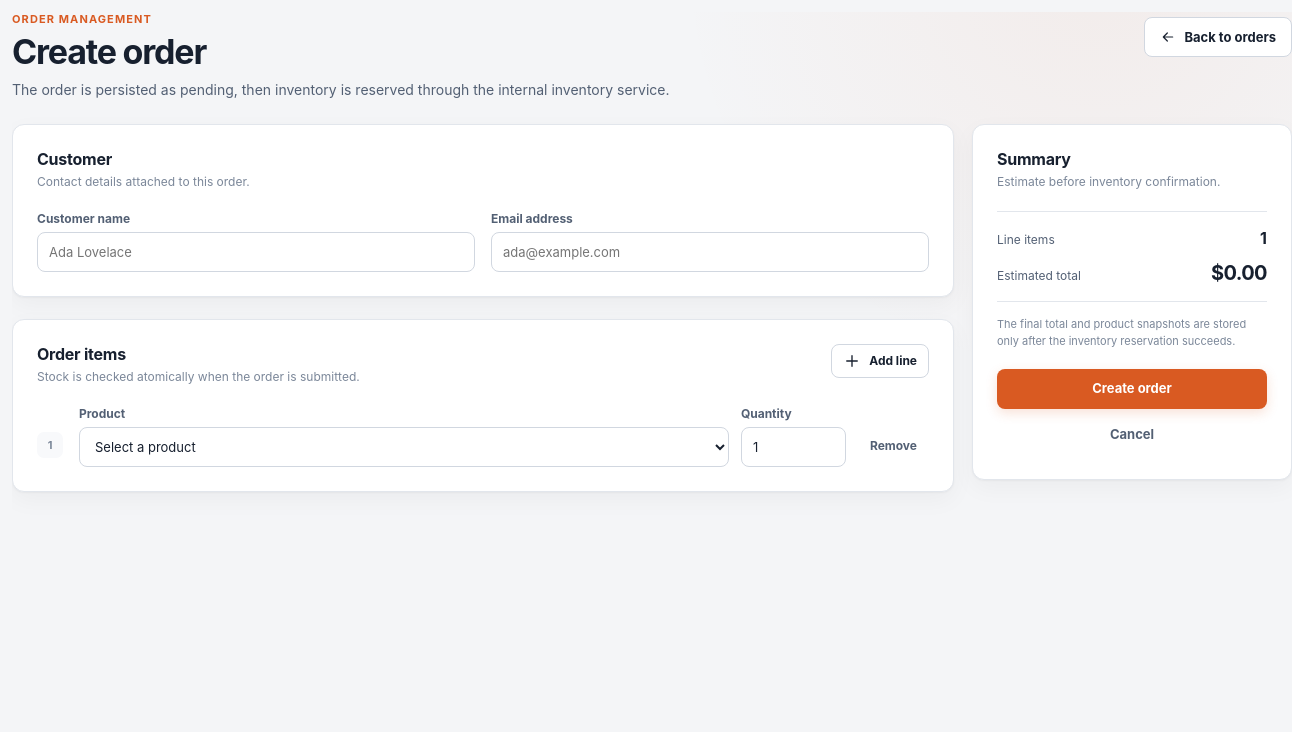
Test: NewOrderPage › validates required customer fields before submitting
Click the button "Create order".
click(1132, 389)  # box x1=997 y1=369 x2=1267 y2=409
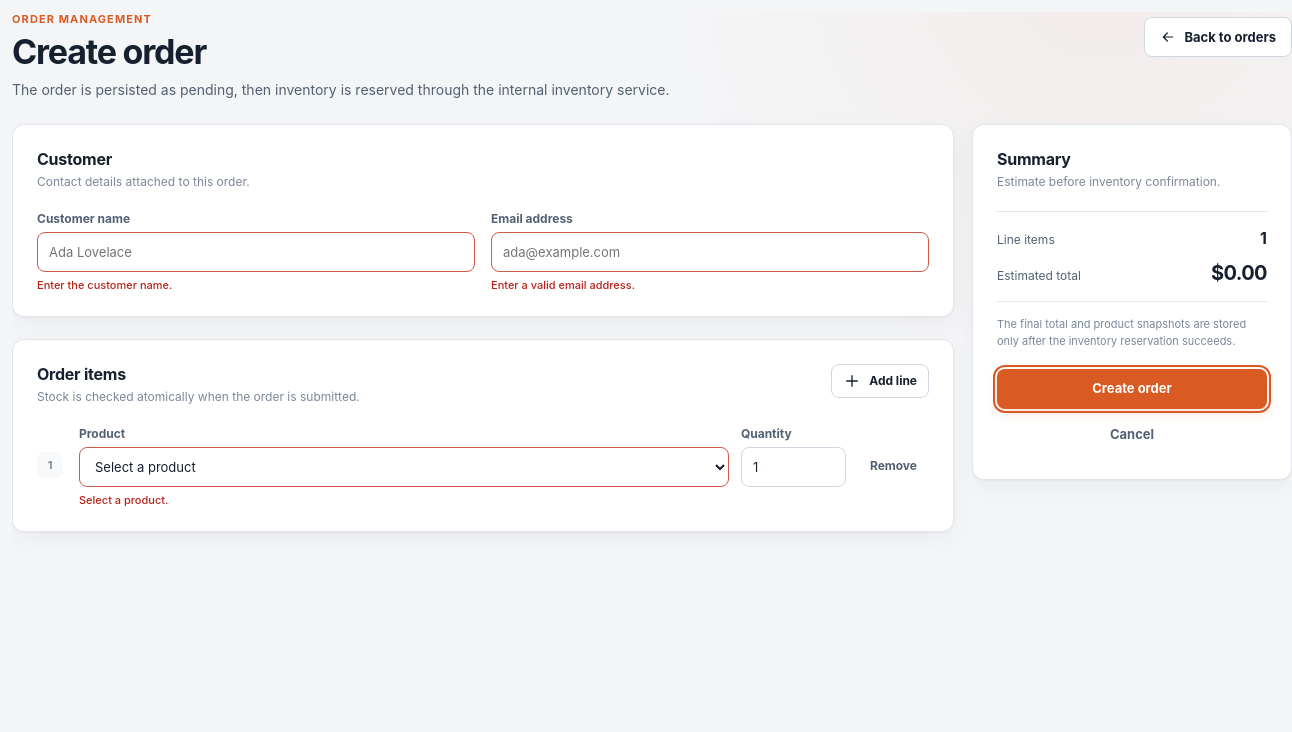
Expected: the text "Enter the customer name." is shown, x1=37 y1=278 x2=172 y2=292
Expected: the text "Enter a valid email address." is shown, x1=491 y1=278 x2=635 y2=292
Expected: the text "Select a product." is shown, x1=79 y1=493 x2=168 y2=507
